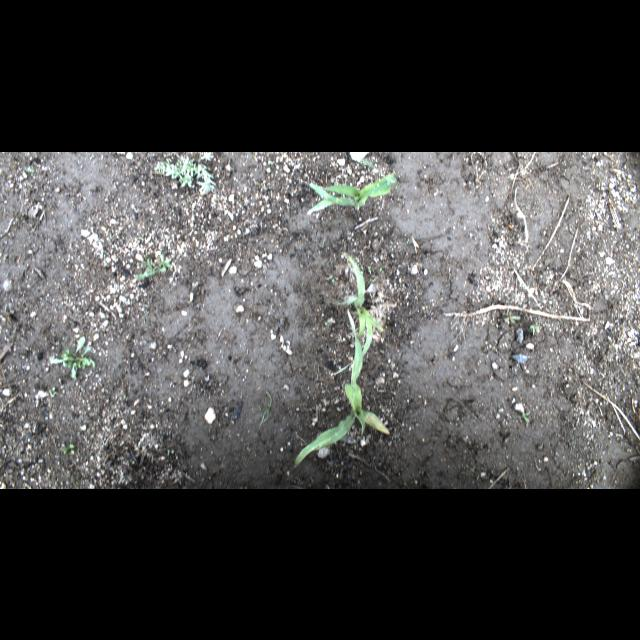crop: (293, 311, 395, 465), (334, 248, 384, 374), (307, 170, 398, 212), (348, 152, 374, 166)
weed: (153, 156, 217, 194), (48, 332, 98, 376), (138, 253, 176, 281), (58, 441, 76, 457), (506, 310, 520, 328), (516, 408, 532, 422), (530, 318, 540, 336)
